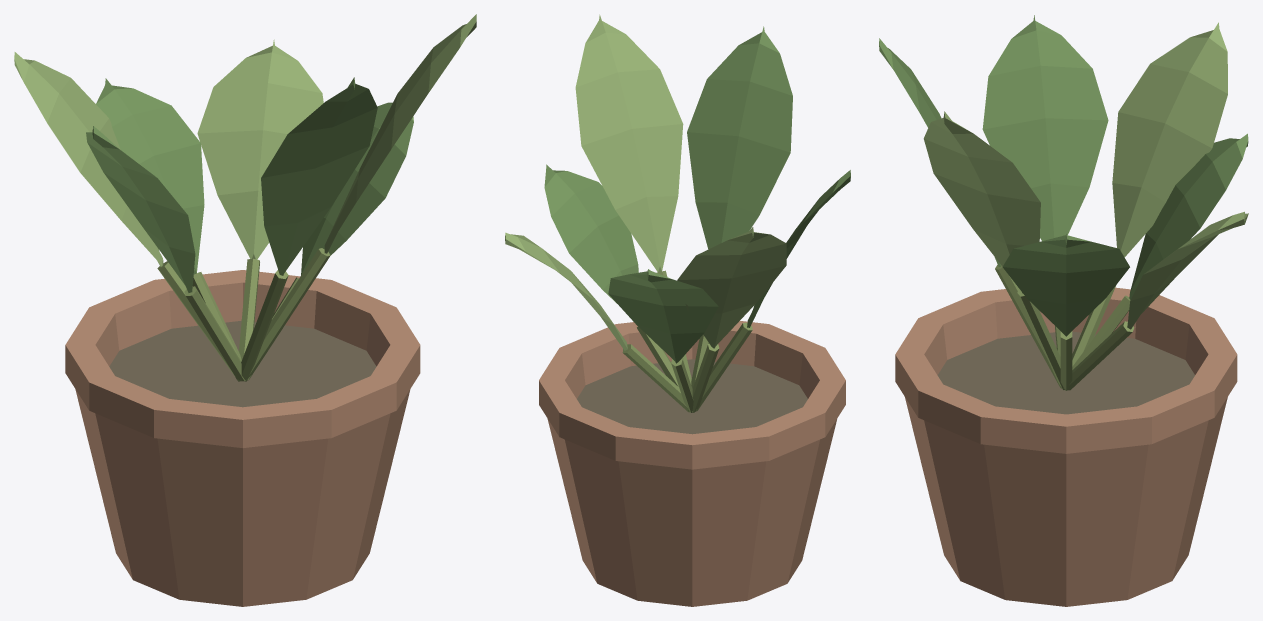
The model's file is terracotta-broadleaf.glb.
3 views of the same model, side by side, from view 1: azimuth 30°, elevation 25°; view 2: azimuth 150°, elevation 25°; view 3: azimuth 270°, elevation 25° (orthographic). The views are drawn at different scales.
Parts seen in each view (by area): view 1: terracotta-broadleaf; view 2: terracotta-broadleaf; view 3: terracotta-broadleaf.
Part boxes in pixels (<box>): terracotta-broadleaf: <box>14,14,476,606</box>; terracotta-broadleaf: <box>505,14,850,606</box>; terracotta-broadleaf: <box>879,15,1248,606</box>.
Bounding box in the file's own units: 0.5009 × 0.77 × 0.4921.
